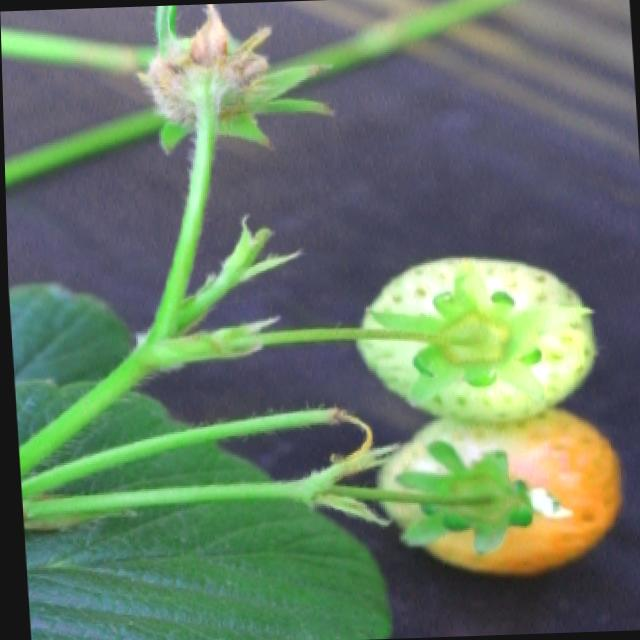Gray Mold: (135, 4, 271, 130)
